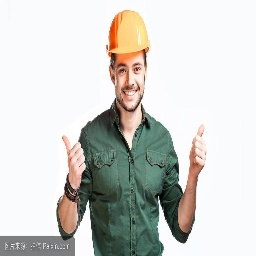helmet: (106, 11, 150, 55)
no-vest: (91, 107, 171, 256)
person: (79, 8, 176, 256)
